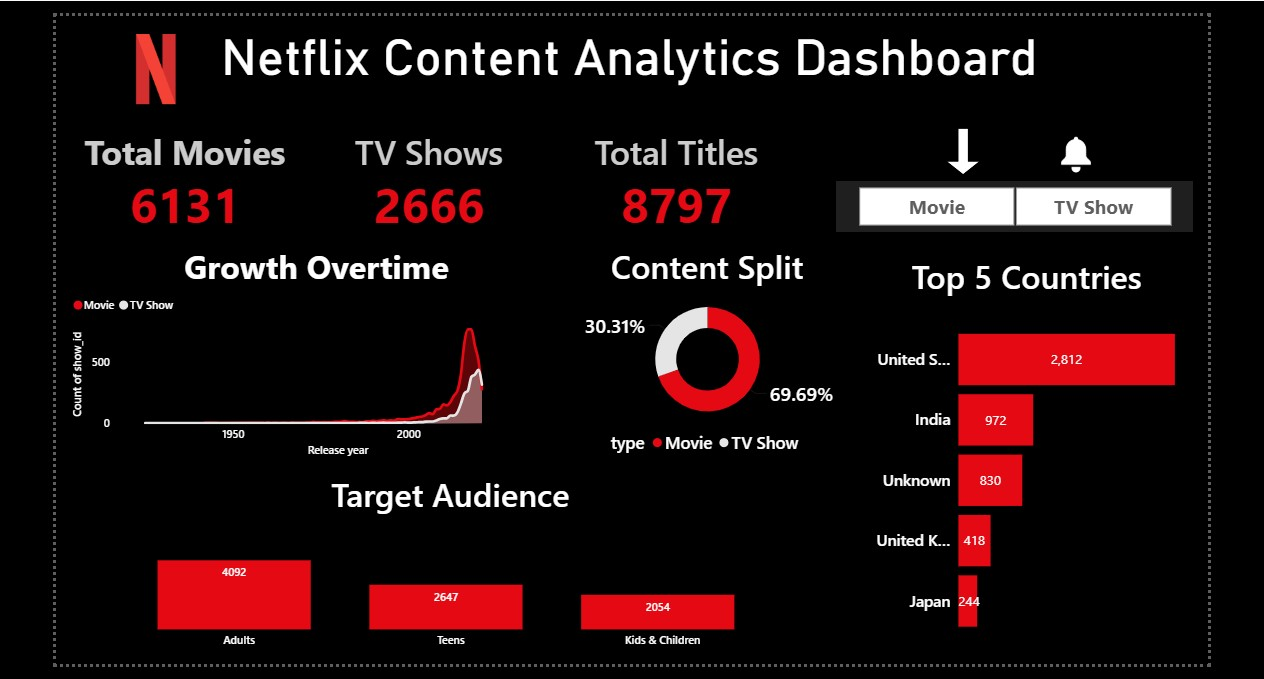

What the dashboard file says about the page in this screenshot:
{"tool":"powerbi","page":{"name":"Netflix Dashboard","canvas":[1280,720],"ordinal":0},"visuals":[{"type":"card","title":"Total Titles","fields":{"Values":["CountNonNull(CLEANED_Netflix_Data_final csv.title)"]},"box":[554.7,125.2,268.4,114.2],"z":0},{"type":"card","title":"Total Movies","fields":{"Values":["CountNonNull(CLEANED_Netflix_Data_final csv.title)"]},"box":[11,125.2,262.9,114.2],"z":1000},{"type":"card","title":"TV Shows","fields":{"Values":["CountNonNull(CLEANED_Netflix_Data_final csv.title)"]},"box":[289,125.2,251.9,114.2],"z":2000},{"type":"textbox","title":"Netflix Content Analytics Dashboard","box":[12.4,13.8,1251.1,99.1],"z":3000},{"type":"slicer","fields":{"Values":["CLEANED_Netflix_Data_final csv.type"]},"box":[867.1,183.1,396.4,56.4],"z":4000},{"type":"shape","box":[989.6,125.2,35.8,50.9],"z":5000},{"type":"image","box":[67.4,13.8,88.1,90.8],"z":6000},{"type":"image","box":[1096.9,125.2,72.9,57.8],"z":7000},{"type":"areaChart","title":"Growth Overtime","fields":{"Category":["CLEANED_Netflix_Data_final csv.release_year"],"Series":["CLEANED_Netflix_Data_final csv.type"],"Y":["Count(CLEANED_Netflix_Data_final csv.show_id)"]},"box":[13.3,253.7,552.6,241.8],"z":8000},{"type":"donutChart","title":" Content Split","fields":{"Category":["CLEANED_Netflix_Data_final csv.type"],"Y":["Count(CLEANED_Netflix_Data_final csv.show_id)"]},"box":[554.7,253.2,337.2,242.2],"z":9000},{"type":"clusteredBarChart","title":"Top 5 Countries","fields":{"Category":["CLEANED_Netflix_Data_final csv.country"],"Y":["Count(CLEANED_Netflix_Data_final csv.show_id)"]},"box":[892.7,264.4,370.6,446.3],"z":10000},{"type":"clusteredColumnChart","title":"Target Audience","fields":{"Category":["CLEANED_Netflix_Data_final csv.rating (groups)"],"Y":["Count(CLEANED_Netflix_Data_final csv.show_id)"]},"box":[13.3,506.1,850.2,204.6],"z":11000}]}

Visuals, with their boxes on the page's 1280x720 design canvas (x1, y1, x2, y2). These are canvas units, not pixel positions in the 1264x679 screenshot, which may show the page scaled, cropped or inside an application window:
"Total Titles" card: x1=555, y1=125, x2=823, y2=239
"Total Movies" card: x1=11, y1=125, x2=274, y2=239
"TV Shows" card: x1=289, y1=125, x2=541, y2=239
"Netflix Content Analytics Dashboard" textbox: x1=12, y1=14, x2=1264, y2=113
slicer - CLEANED_Netflix_Data_final csv.type: x1=867, y1=183, x2=1264, y2=240
shape: x1=990, y1=125, x2=1025, y2=176
image: x1=67, y1=14, x2=156, y2=105
image: x1=1097, y1=125, x2=1170, y2=183
"Growth Overtime" areaChart: x1=13, y1=254, x2=566, y2=496
" Content Split" donutChart: x1=555, y1=253, x2=892, y2=495
"Top 5 Countries" clusteredBarChart: x1=893, y1=264, x2=1263, y2=711
"Target Audience" clusteredColumnChart: x1=13, y1=506, x2=864, y2=711
